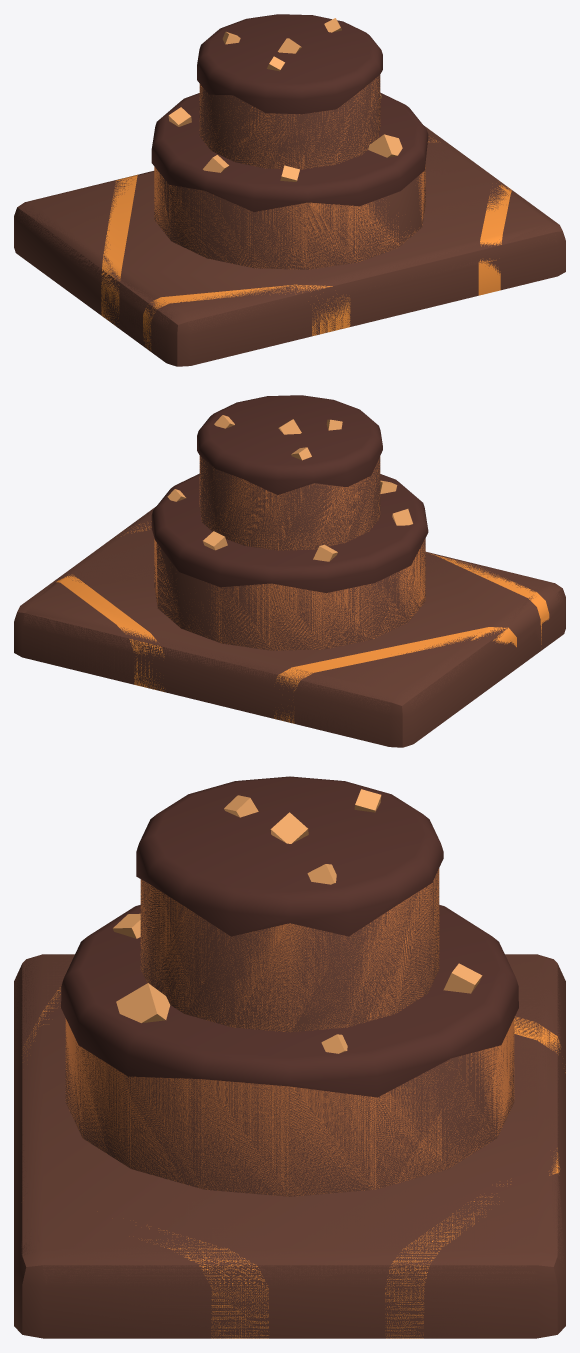
3 views of the same model, one above another, from view 1: azimuth 30°, elevation 25°; view 2: azimuth 150°, elevation 25°; view 3: azimuth 270°, elevation 25° (orthographic). The views are drawn at different scales.
Visible parts, largest first — view 1: chocolate_5_2, chocolate_5_1; view 2: chocolate_5_2, chocolate_5_1; view 3: chocolate_5_1, chocolate_5_2.
Part boxes in pixels (<box>): chocolate_5_2: <box>15,14,558,365</box>; chocolate_5_1: <box>14,74,565,366</box>; chocolate_5_2: <box>22,395,563,746</box>; chocolate_5_1: <box>14,456,565,747</box>; chocolate_5_1: <box>14,868,565,1338</box>; chocolate_5_2: <box>14,776,565,1338</box>.
Size of the model in its own units: 71.29 by 38.07 by 52.26.
